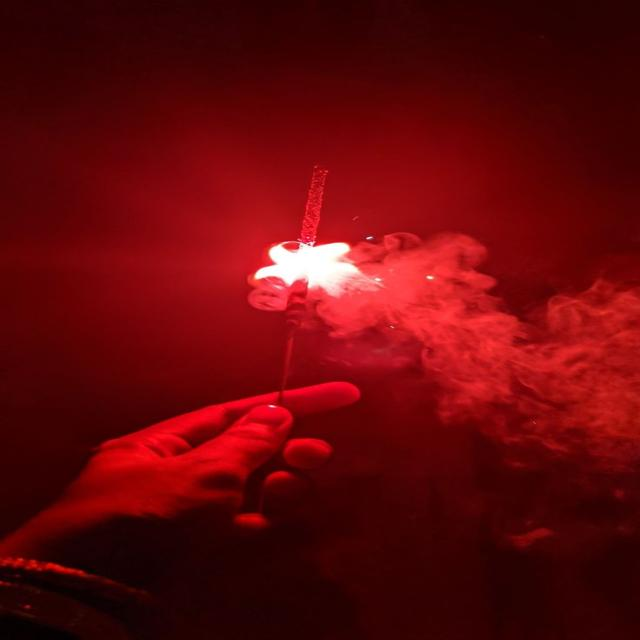fire: (255, 241, 359, 298)
